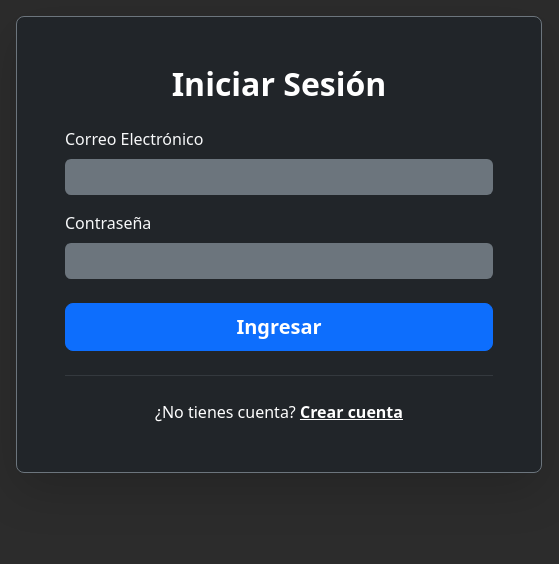
it: Login Component › muestra error si la API rechaza el login
Type "error@test.com" into the field labelled "Correo Electrónico" at (279, 177), box [65,159,493,195]
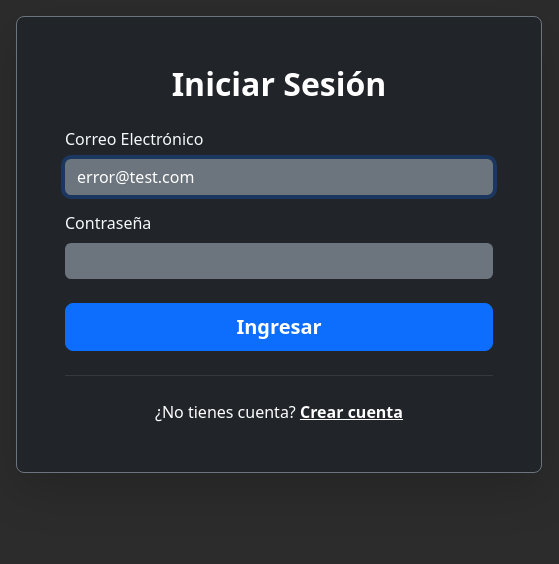
Type "123456" into the password field labelled "Contraseña" at (279, 261), box [65,243,493,279]
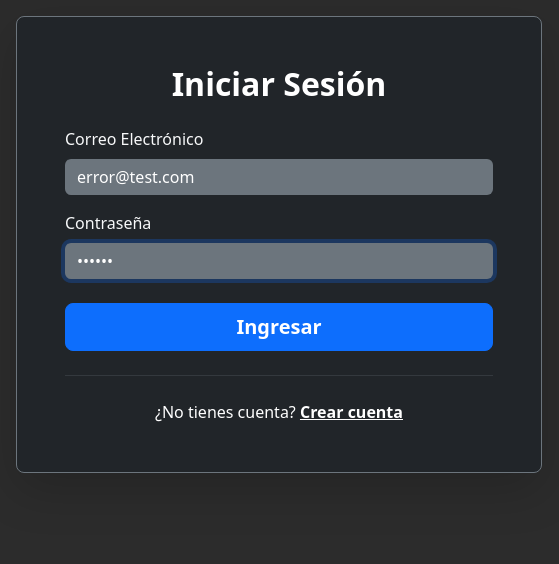
Click the button "Ingresar" at (279, 327), box [65,303,493,351]
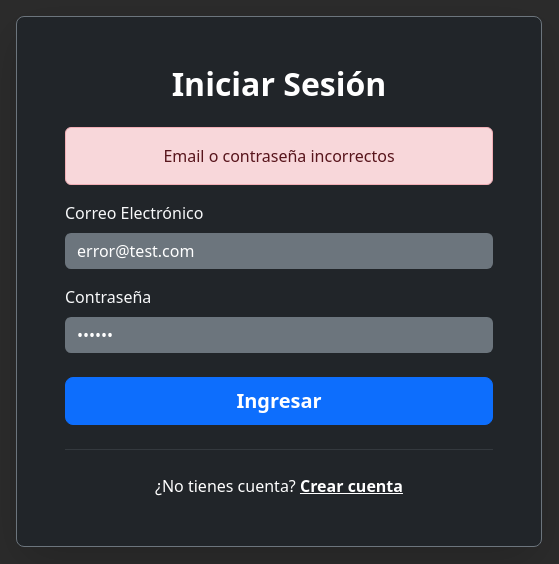
Check: the text "Email o contraseña incorrectos" is shown, box [65,127,493,185]
